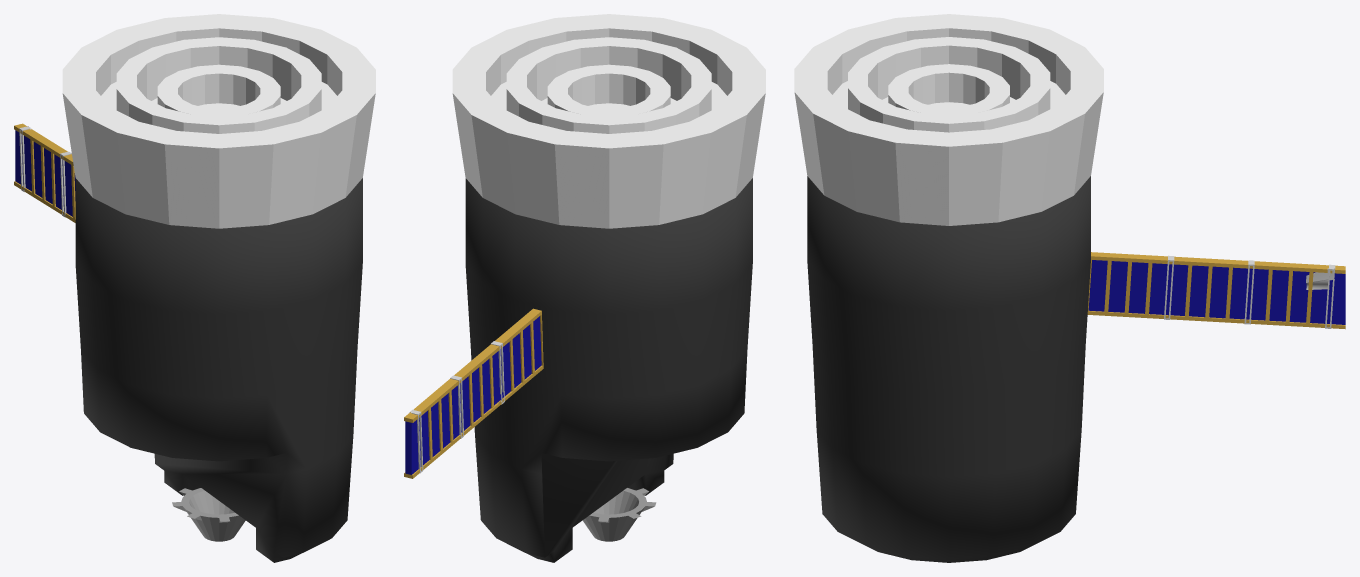
3 renders of one model, left to right at view 1: azimuth 30°, elevation 25°; view 2: azimuth 150°, elevation 25°; view 3: azimuth 270°, elevation 25°, orthographic.
Visible parts, largest first — view 1: Line003, Line002, Loft020, Rectangle008, Cone001; view 2: Line003, Line002, Rectangle008, Loft020, Cone001; view 3: Line003, Line002, Rectangle008, Loft020.
Part boxes in pixels (x1,y1,x2,y2): Line003: (75,178,362,562); Line002: (62,14,375,228); Loft020: (14,123,75,222); Rectangle008: (15,130,75,216); Cone001: (172,488,245,541); Line003: (465,178,752,562); Line002: (452,14,765,228); Rectangle008: (405,316,541,474); Loft020: (404,308,543,478); Cone001: (582,488,656,541); Line003: (807,176,1090,562); Line002: (794,14,1103,225); Rectangle008: (1088,260,1345,324); Loft020: (1087,252,1345,329).
Size of the model in its own units: 17.17 by 27.03 by 30.13.
